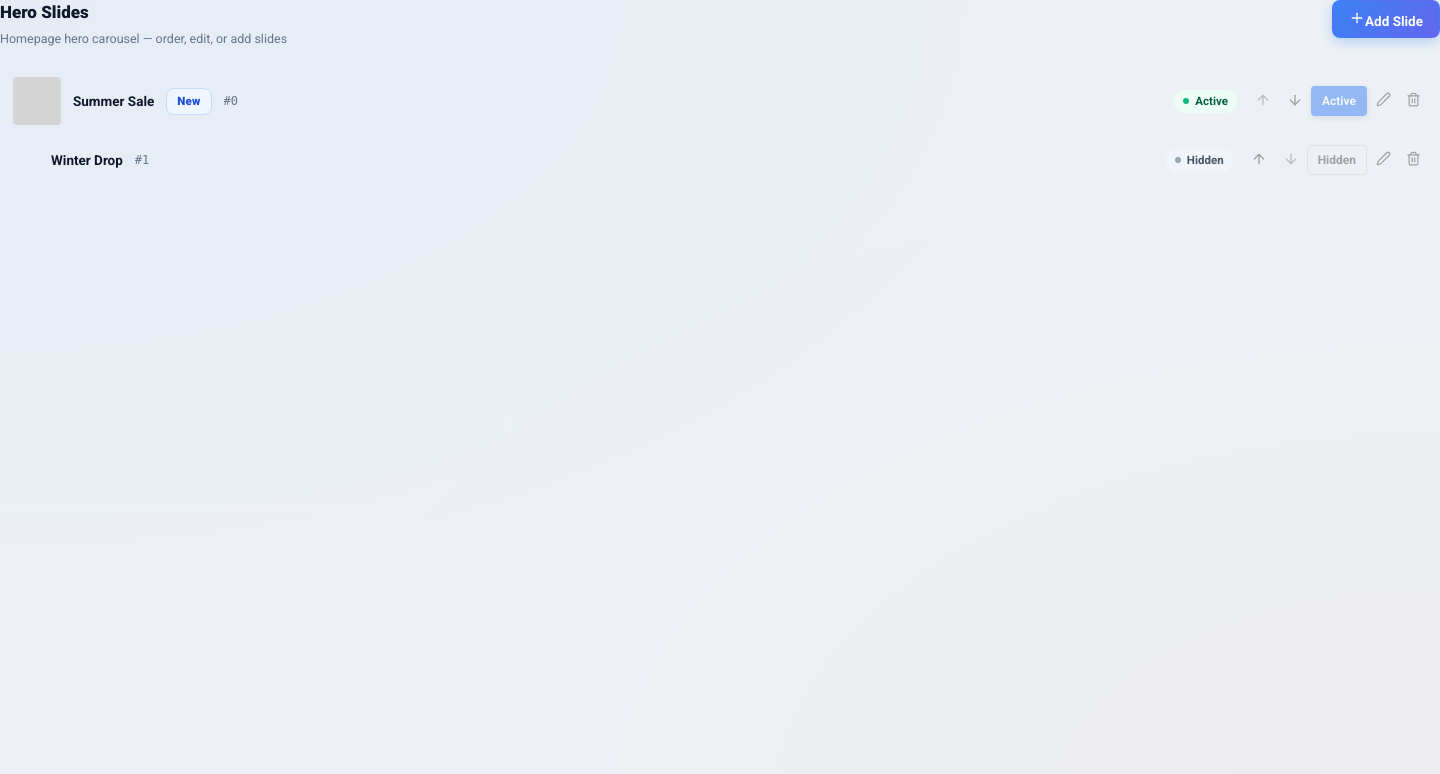
Test: HeroSlidesEditor › uses the kit ImageField instead of the mislabelled signed_url inputs
Expected: the text "Summer Sale" is shown, top-left (73, 91), bottom-right (154, 111)
Click the button named "Edit Summer Sale" at (1383, 101), box top-left (1369, 87), bottom-right (1397, 115)
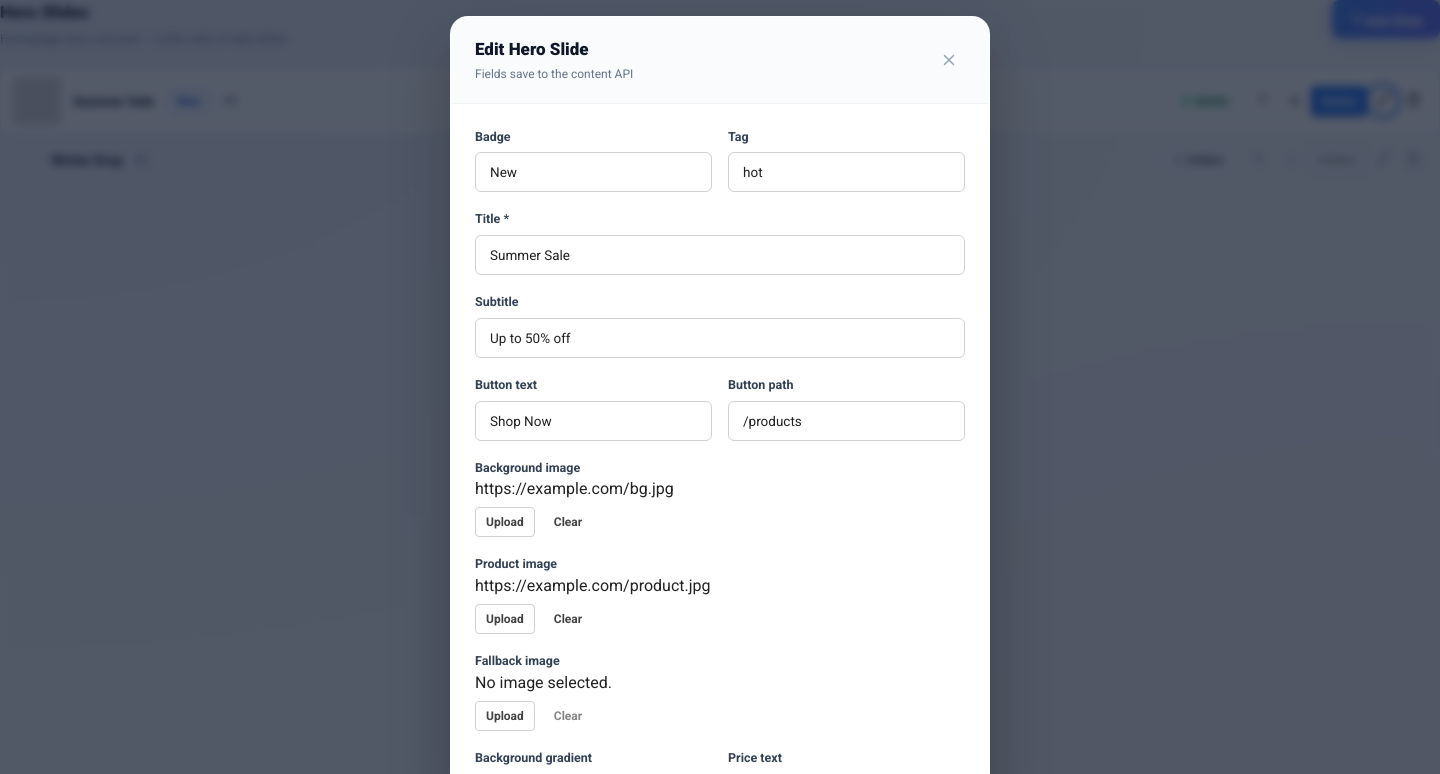
Now the text "Background image" is shown, box top-left (475, 458), bottom-right (580, 477)
Now the text "Product image" is shown, box top-left (475, 555), bottom-right (557, 574)
Now the text "Fallback image" is shown, box top-left (475, 652), bottom-right (560, 671)
